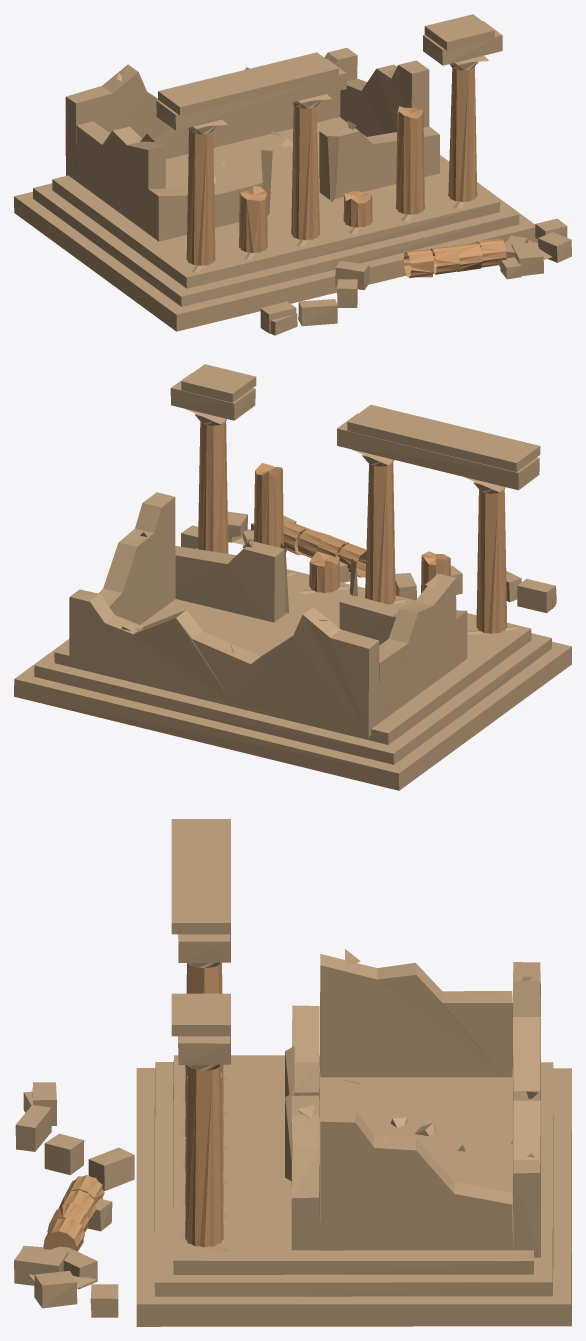
Rendered from temple-ruin-lod1.glb.
3 views of the same model, one above another, from view 1: azimuth 30°, elevation 25°; view 2: azimuth 150°, elevation 25°; view 3: azimuth 270°, elevation 25° (orthographic). The views are drawn at different scales.
Size of the model in its own units: 18.58 by 10 by 17.92.
